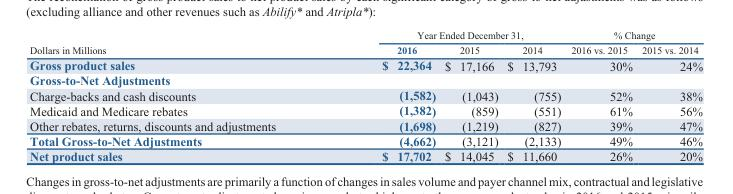table: (29, 28, 702, 162)
table column: (29, 28, 328, 162), (328, 28, 439, 162), (565, 28, 636, 162), (636, 28, 702, 162), (439, 28, 502, 162), (502, 28, 565, 162)
table column header: (29, 28, 702, 56)
table projected row header: (29, 72, 702, 87)
table row: (29, 56, 702, 72), (29, 41, 702, 56), (29, 72, 702, 87), (29, 87, 702, 102), (29, 102, 702, 117), (29, 117, 702, 132), (29, 132, 702, 147), (29, 147, 702, 162), (29, 28, 702, 41)
table spanning cell: (29, 28, 328, 56), (328, 28, 565, 41), (565, 28, 702, 41)
